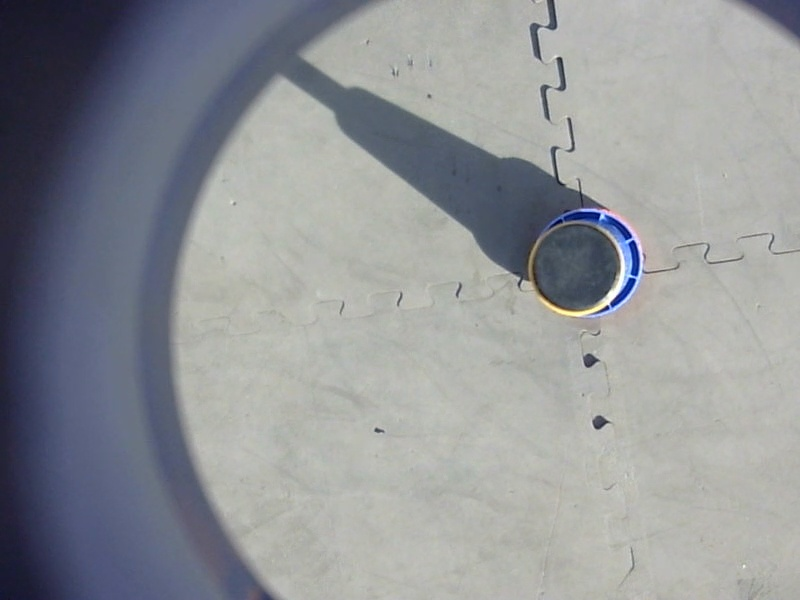tip: (518, 214, 633, 323)
